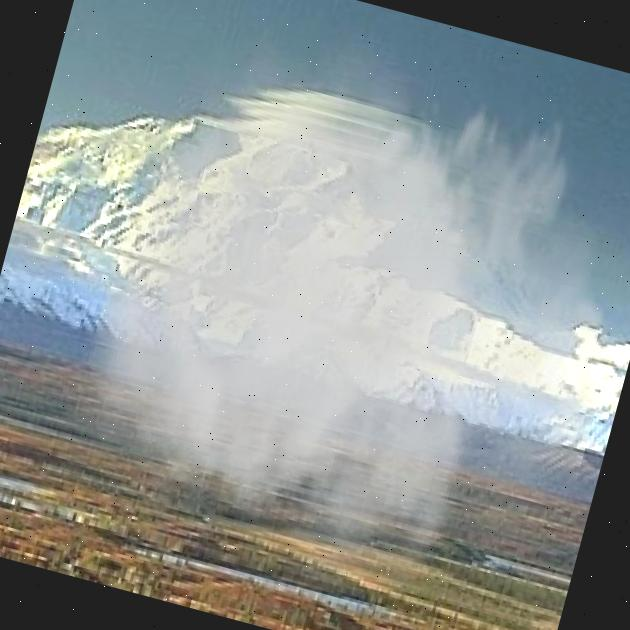smoke: (18, 0, 630, 630)
